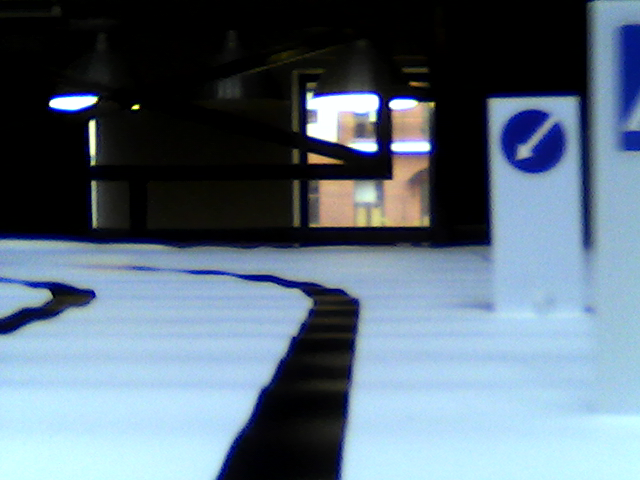prep: (501, 109, 563, 178)
